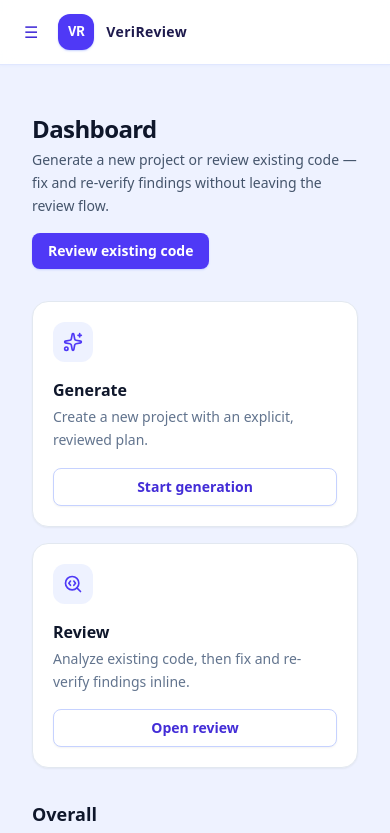
it: shell layout › toggles the mobile navigation menu from the navbar button
Click the button named "Toggle navigation": (31, 32) [16,12,46,52]
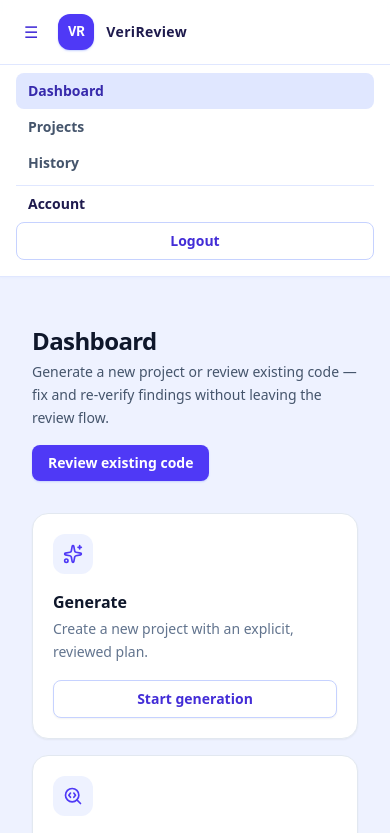
Check: the navigation bar named "Mobile" is shown, box [0,64,389,276]
